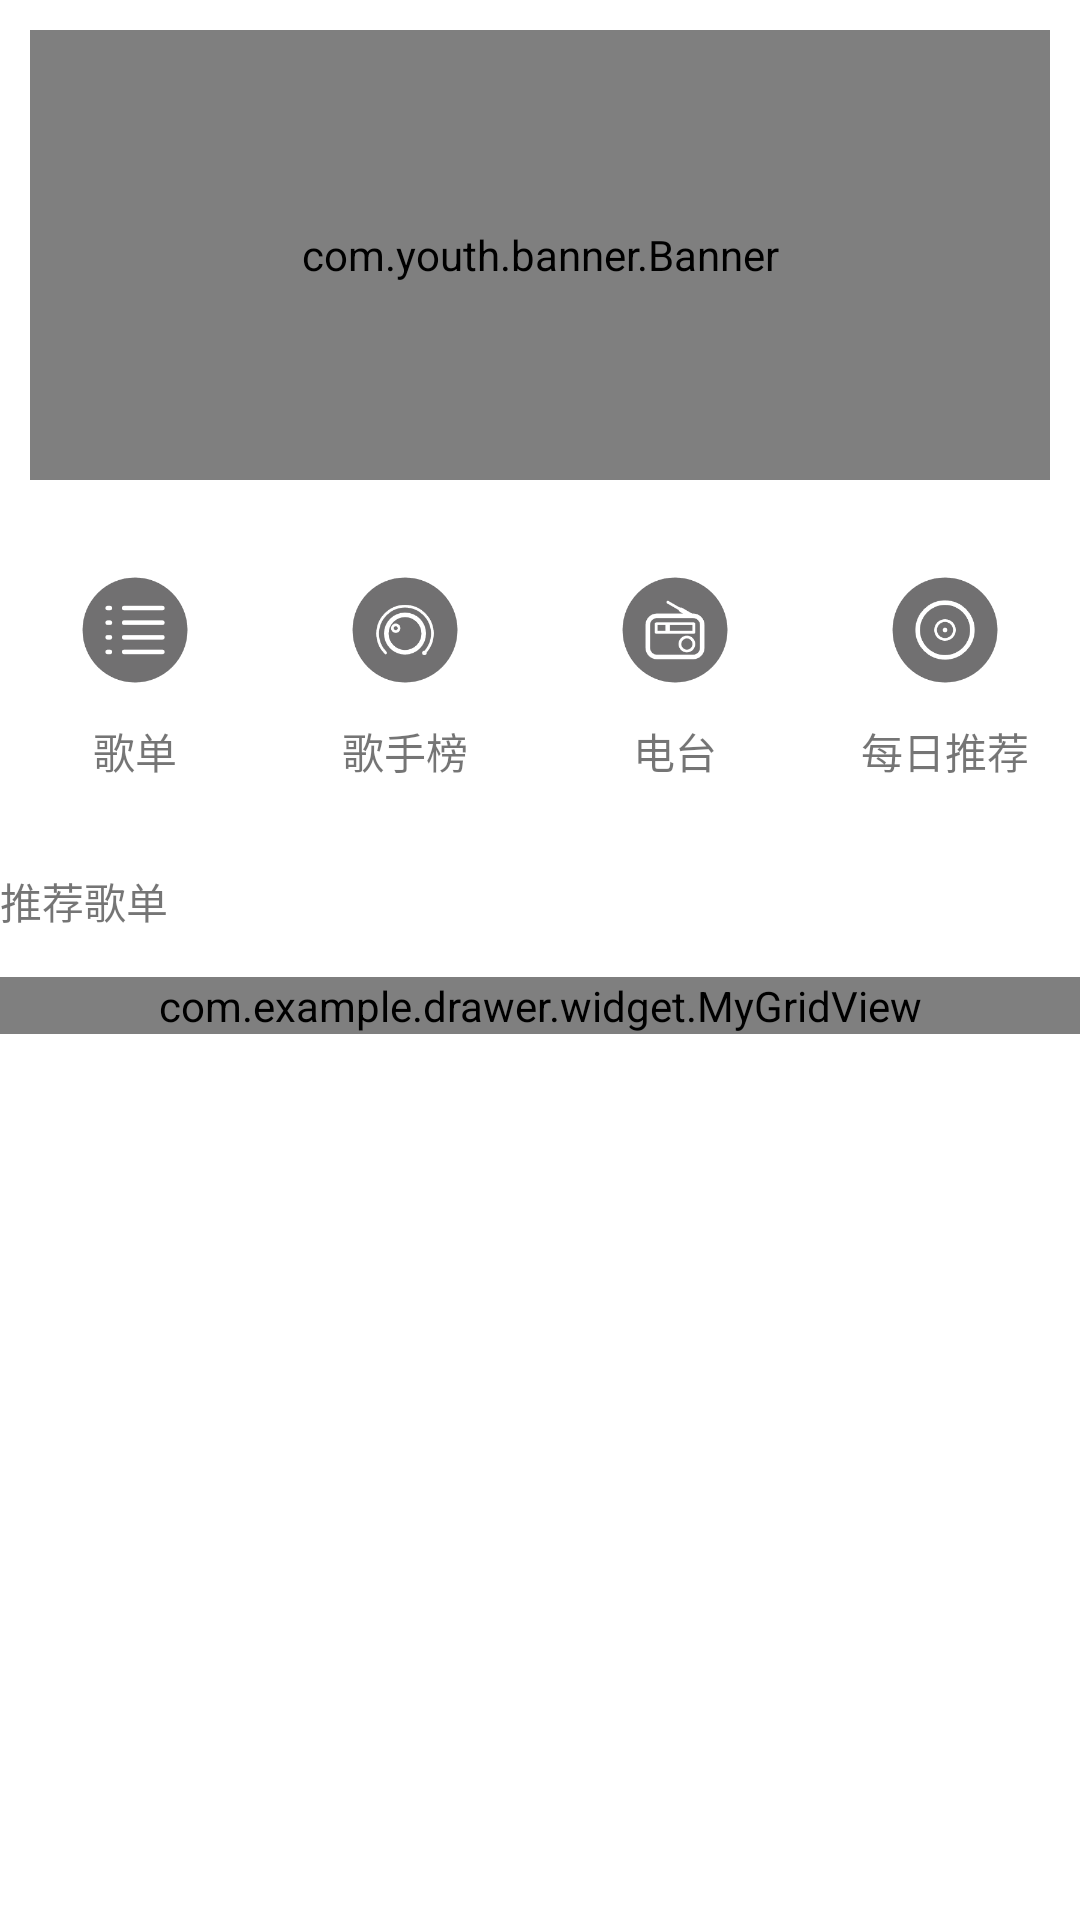

Icons on this 1080×1920 Android screen, each with the point to tap as [x,y]:
songlist: [135,630]
